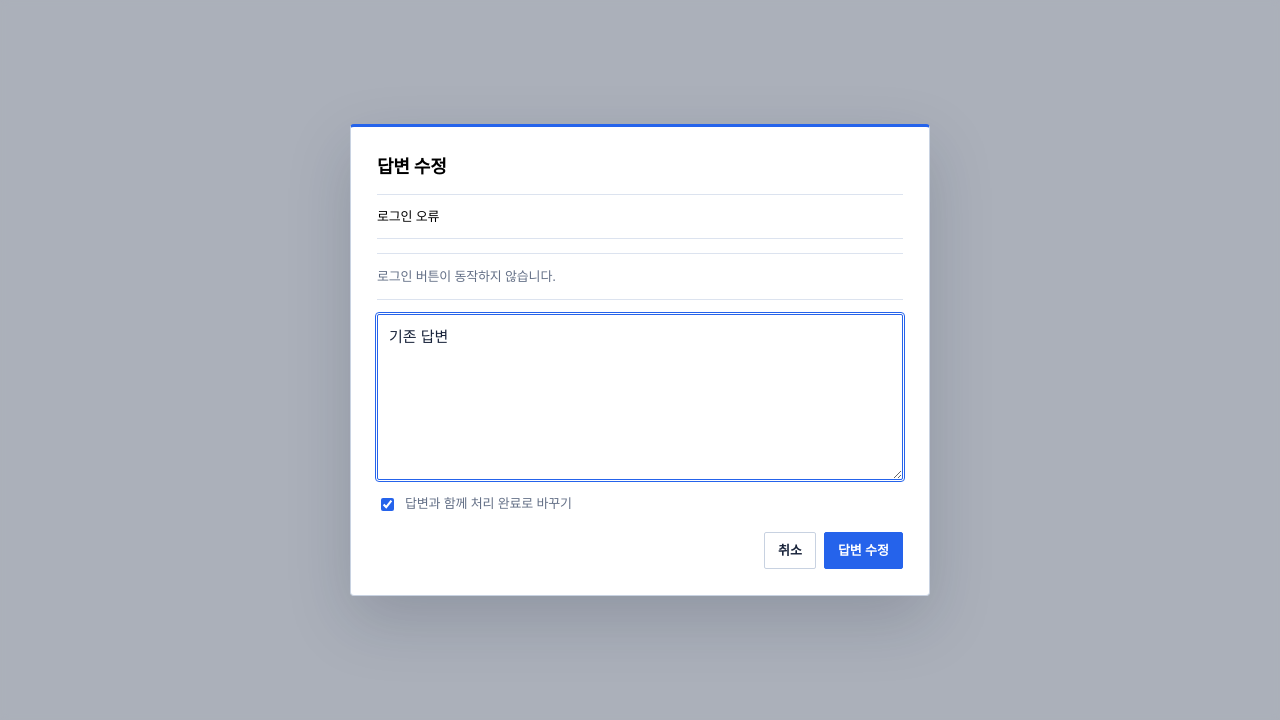
Test: AnswerDialog › 버전 충돌 메시지를 표시하고 창을 유지한다
Expected: the text box showing "기존 답변" is shown, [377,314,903,480]
Click the button "답변 수정" at x=863, y=551, box [824,532,903,570]
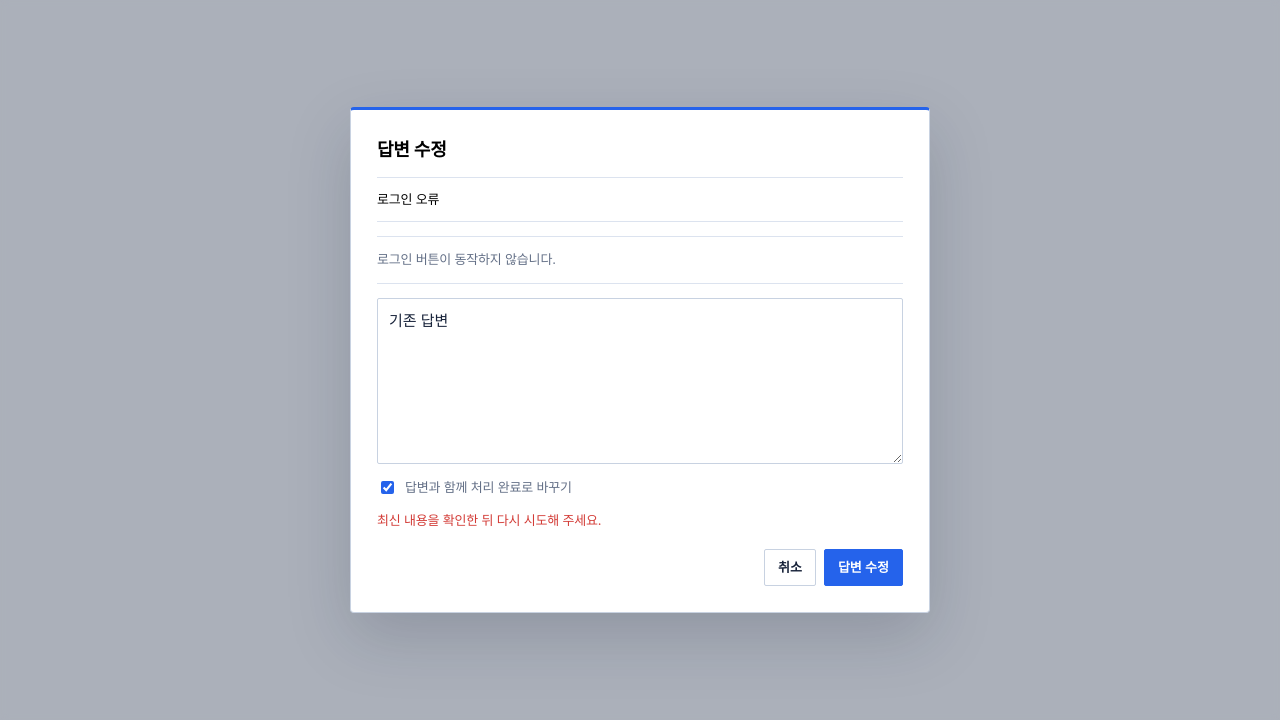
Expected: the button "답변 수정" is enabled, [824,549,903,586]
Expected: the text "최신 내용을 확인한 뒤 다시 시도해 주세요." is shown, [377,512,601,528]
